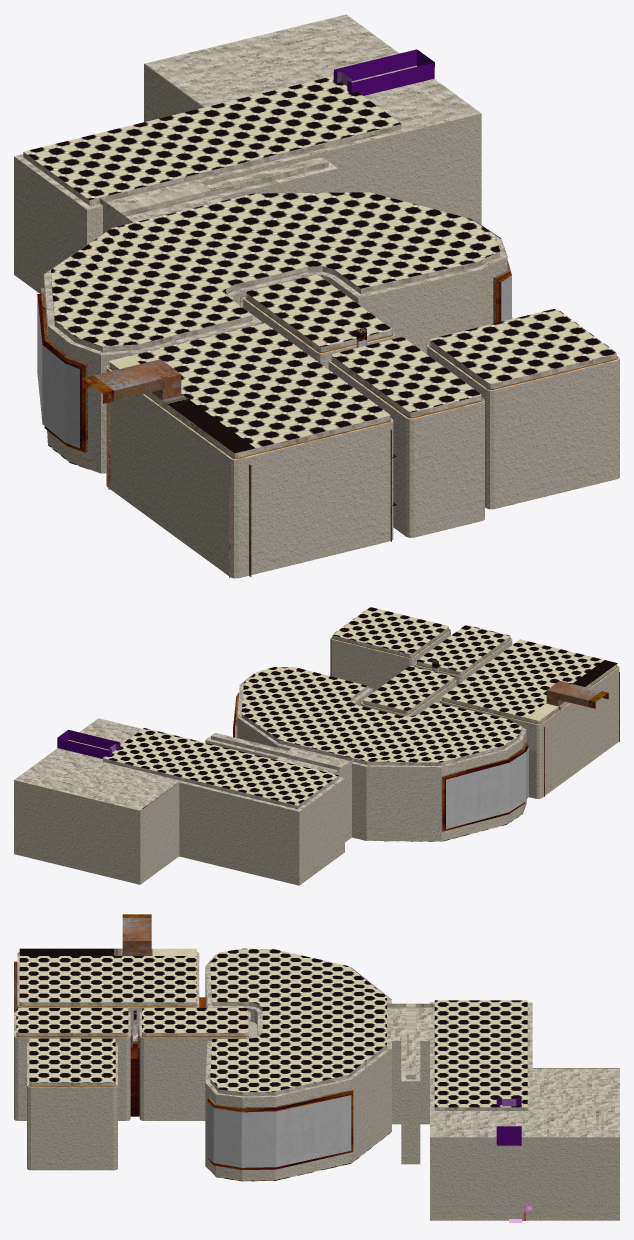
The model's file is level1.glb.
3 views of the same model, one above another, from view 1: azimuth 30°, elevation 25°; view 2: azimuth 150°, elevation 25°; view 3: azimuth 270°, elevation 25° (orthographic). The views are drawn at different scales.
Parts seen in each view (by area): view 1: main.001, main.003, main.006, Cube.001, main.004; view 2: main.001, main.003, main.006, Cube.001, main.004; view 3: main.001, main.003, main.006, main.004, Cube.001.
Part boxes in pixels (x1=…): main.001: x1=14, y1=14, x2=619, y2=459; main.003: x1=14, y1=63, x2=619, y2=578; main.006: x1=82, y1=359, x2=396, y2=577; Cube.001: x1=333, y1=49, x2=434, y2=95; main.004: x1=108, y1=296, x2=617, y2=458; main.001: x1=14, y1=607, x2=619, y2=811; main.003: x1=14, y1=630, x2=619, y2=885; main.006: x1=544, y1=672, x2=619, y2=796; Cube.001: x1=57, y1=730, x2=120, y2=758; main.004: x1=147, y1=629, x2=617, y2=805; main.001: x1=14, y1=948, x2=619, y2=1137; main.003: x1=14, y1=954, x2=619, y2=1220; main.006: x1=14, y1=914, x2=151, y2=1012; main.004: x1=15, y1=952, x2=248, y2=1086; Cube.001: x1=496, y1=1097, x2=521, y2=1145.
Size of what is drawn, in the model's own units: 21.64 by 4.97 by 26.56.
Materials: 16 (15 with a texture image).
